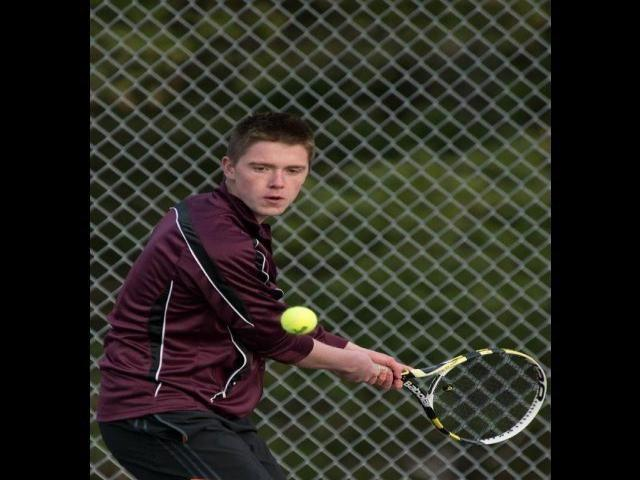tennis-ball: (279, 305, 318, 335)
